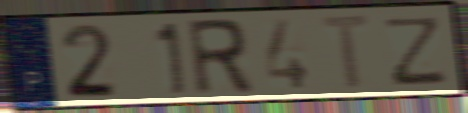1: (152, 20, 190, 97)
2: (58, 22, 119, 100)
4: (264, 17, 311, 93)
R: (183, 16, 257, 99)
T: (317, 13, 377, 94)
Z: (385, 14, 449, 88)
